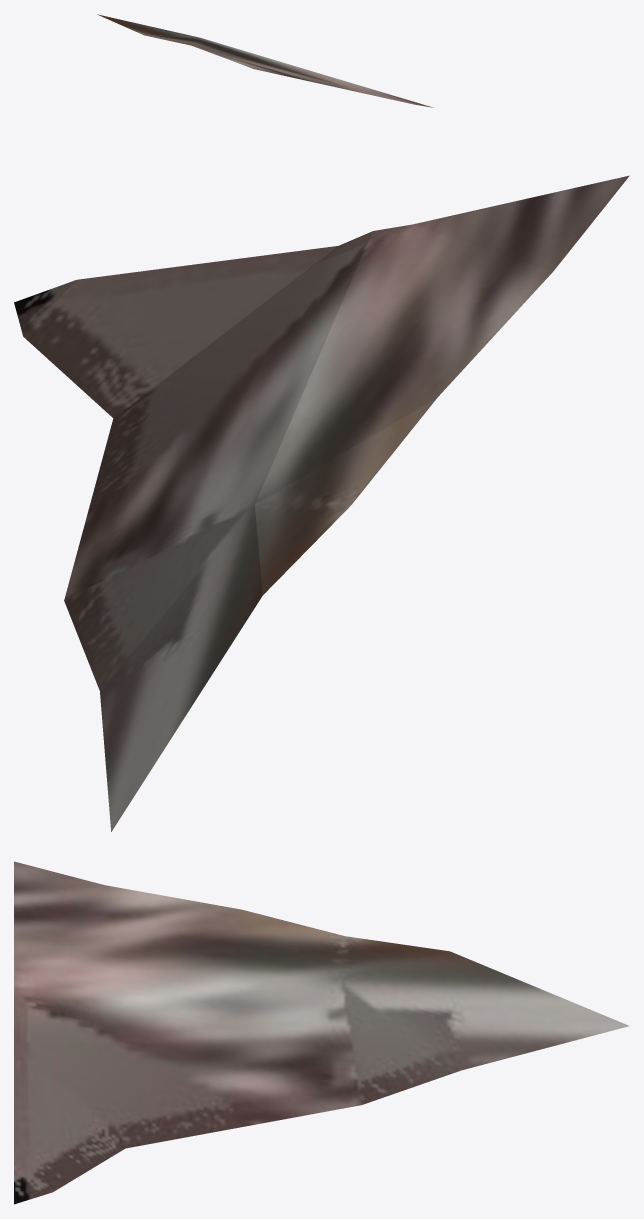
3 views of the same model, one above another, from view 1: azimuth 30°, elevation 25°; view 2: azimuth 150°, elevation 25°; view 3: azimuth 270°, elevation 25° (orthographic). The views are drawn at different scales.
Size of the model in its own units: 0.7334 by 0.3155 by 1.07.
1 material, 1 textured.
